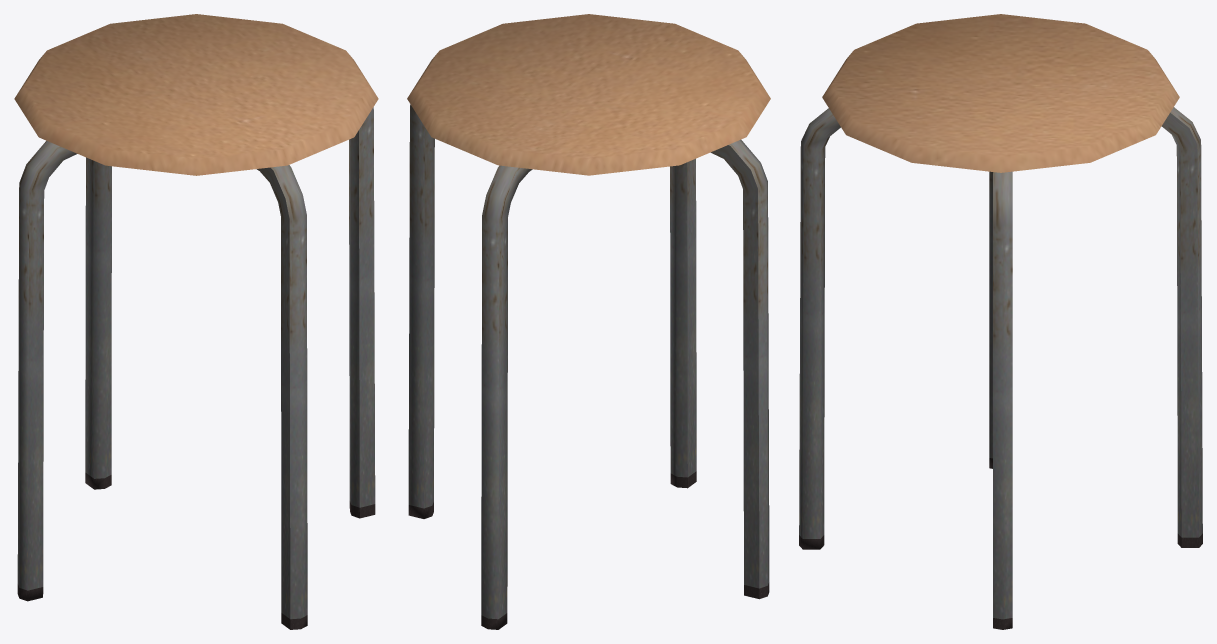
The model's file is chair11.fbx.
3 views of the same model, side by side, from view 1: azimuth 30°, elevation 25°; view 2: azimuth 150°, elevation 25°; view 3: azimuth 270°, elevation 25° (orthographic).
Visible parts, largest first — view 1: chair11; view 2: chair11; view 3: chair11.
Boxes of the visible parts, bbox=[...] form: chair11: bbox=[14, 14, 378, 629]; chair11: bbox=[407, 14, 770, 629]; chair11: bbox=[799, 14, 1202, 629].
Size of the model in its own units: 50.45 by 63.28 by 50.45.
